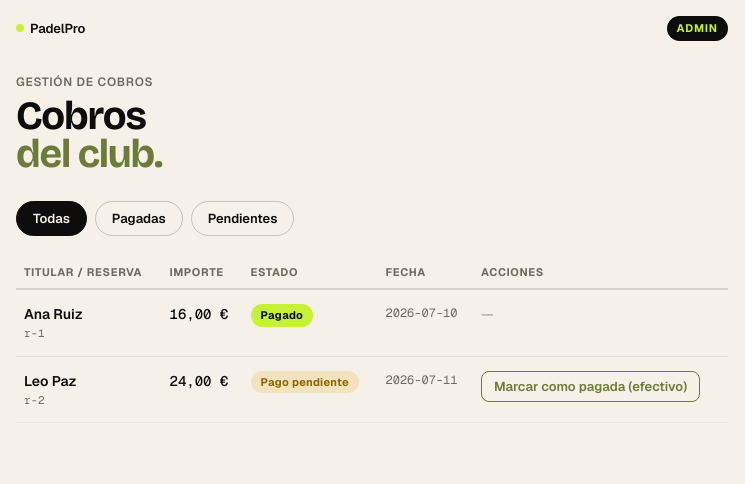
Test case: AdminPagosPage › muestra error si marcar como pagada falla
This screenshot has width=745, height=484.
Click the button "Marcar como pagada (efectivo)" at (591, 386), box x1=481 y1=370 x2=700 y2=402
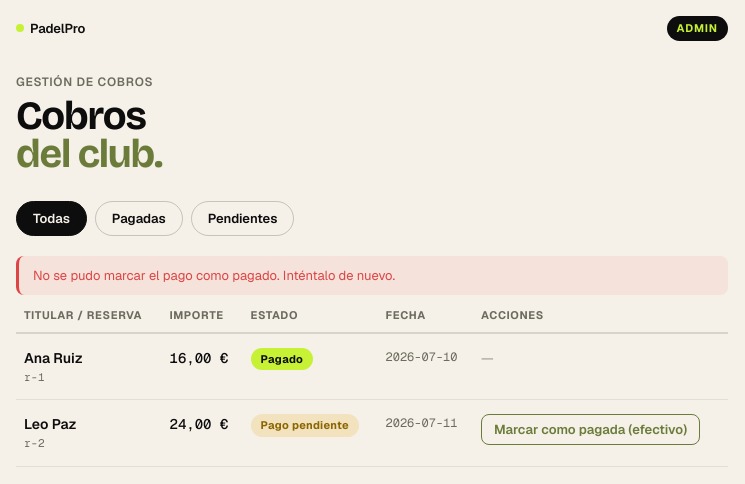
Now the message shows "No se pudo marcar", box x1=33 y1=266 x2=395 y2=284
